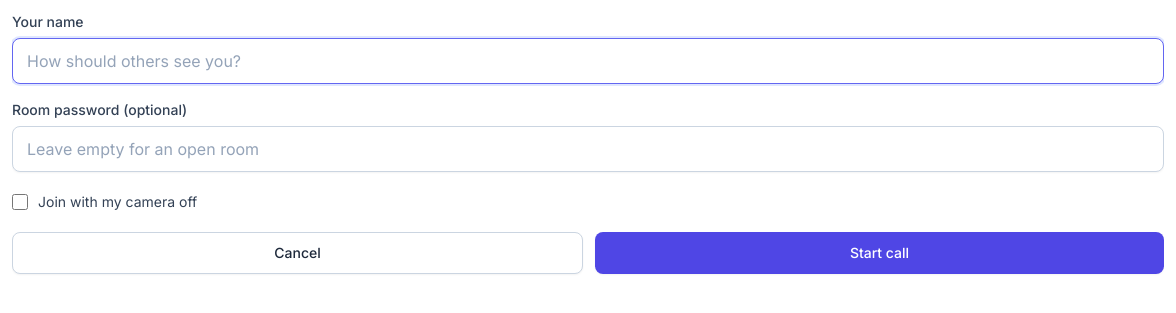
Test case: JoinRoomContent › starting a call (host) › will not start without a name
The image size is (1176, 313).
Click the button "Start call": coordinates (880, 253) [595,232,1164,274]
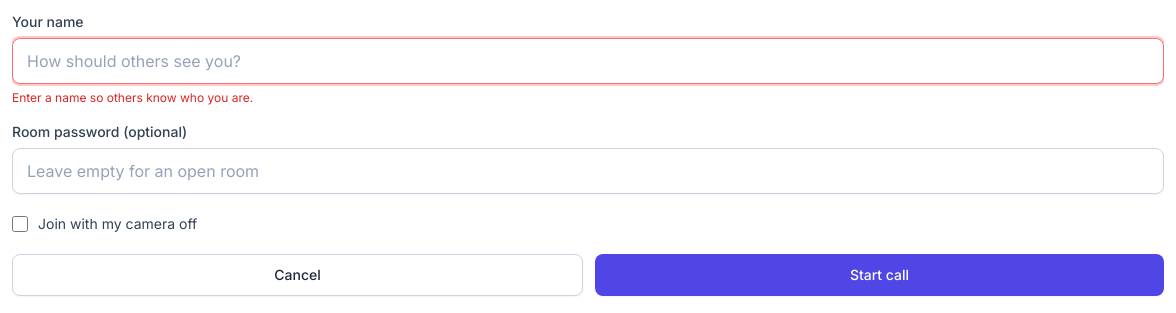
Result: the text "Enter a name so others know who you are." is shown at [12,90,253,105]
